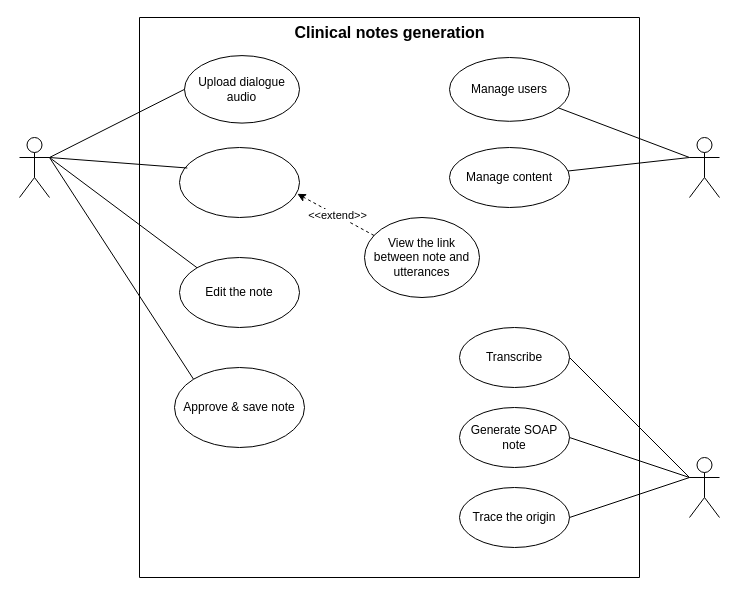
Some shapes in this 742 by 595 pixel diagram are drawn without their labels. The centre of each missing label's shape, as x and y in pixels:
"Admin" belongs at (x=704, y=167).
"Doctor" belongs at (x=34, y=167).
"System" belongs at (x=704, y=487).
"Validate the generated note" belongs at (x=239, y=182).
